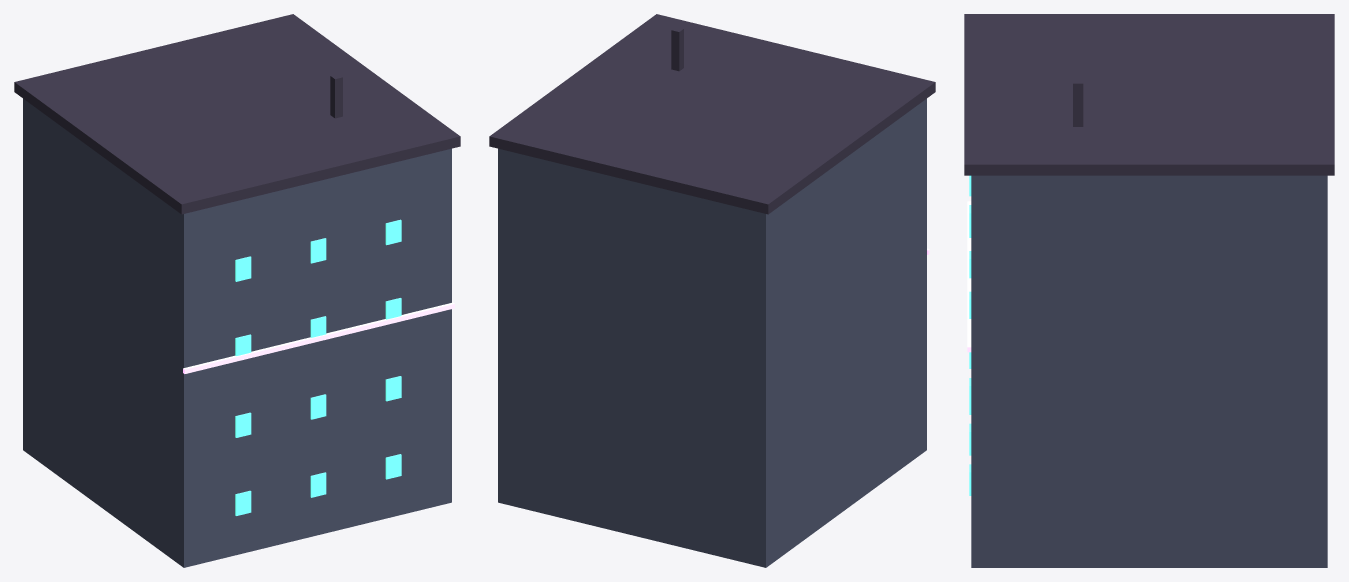
File: building_c.glb
The picture shows the model from 3 angles, left to right: view 1: azimuth 30°, elevation 25°; view 2: azimuth 150°, elevation 25°; view 3: azimuth 270°, elevation 25°; orthographic projection. The views are drawn at different scales.
Visible parts, largest first — view 1: building_c; view 2: building_c; view 3: building_c.
Part boxes in pixels (left/top/right/bottom): building_c: left=14, top=14, right=460, bottom=567; building_c: left=489, top=14, right=935, bottom=567; building_c: left=964, top=14, right=1334, bottom=567.
Bounding box in the file's own units: 5.2 × 7.25 × 5.4.
